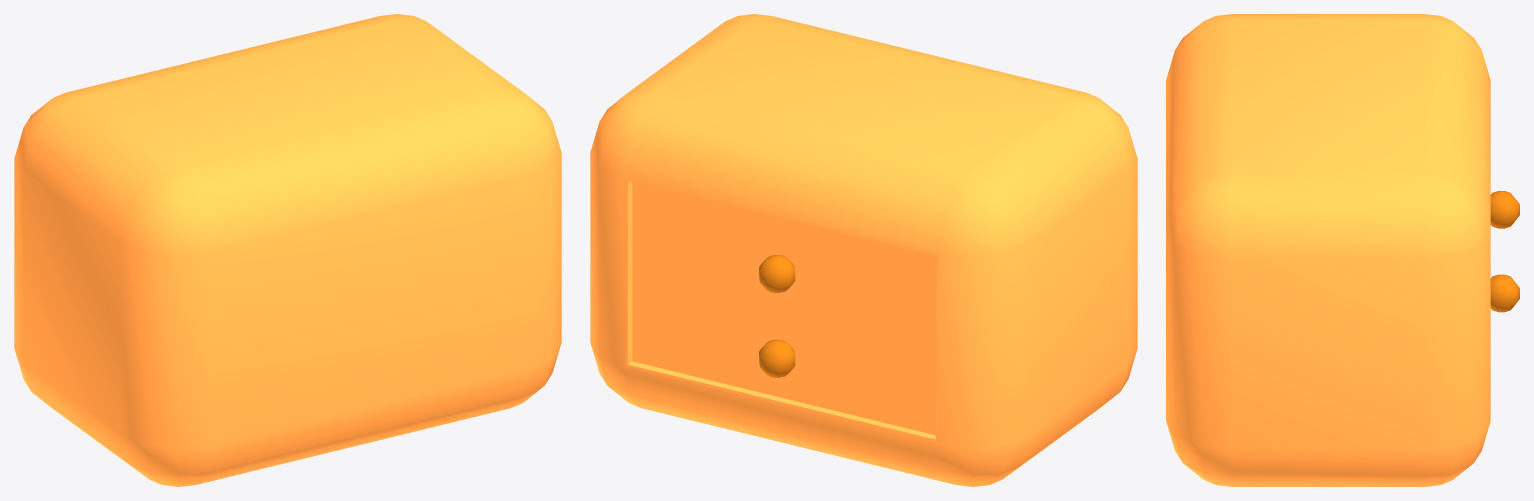
File: EndTable2.fbx
3 renders of one model, left to right at view 1: azimuth 30°, elevation 25°; view 2: azimuth 150°, elevation 25°; view 3: azimuth 270°, elevation 25°, orthographic.
Visible parts, largest first — view 1: Cube_3; view 2: Cube_3; view 3: Cube_3.
Boxes of the visible parts, x1,y1,x2,y2 form: Cube_3: [14, 14, 561, 486]; Cube_3: [590, 14, 1137, 486]; Cube_3: [1166, 14, 1519, 486].
Size of the model in its own units: 222 by 154 by 159.
